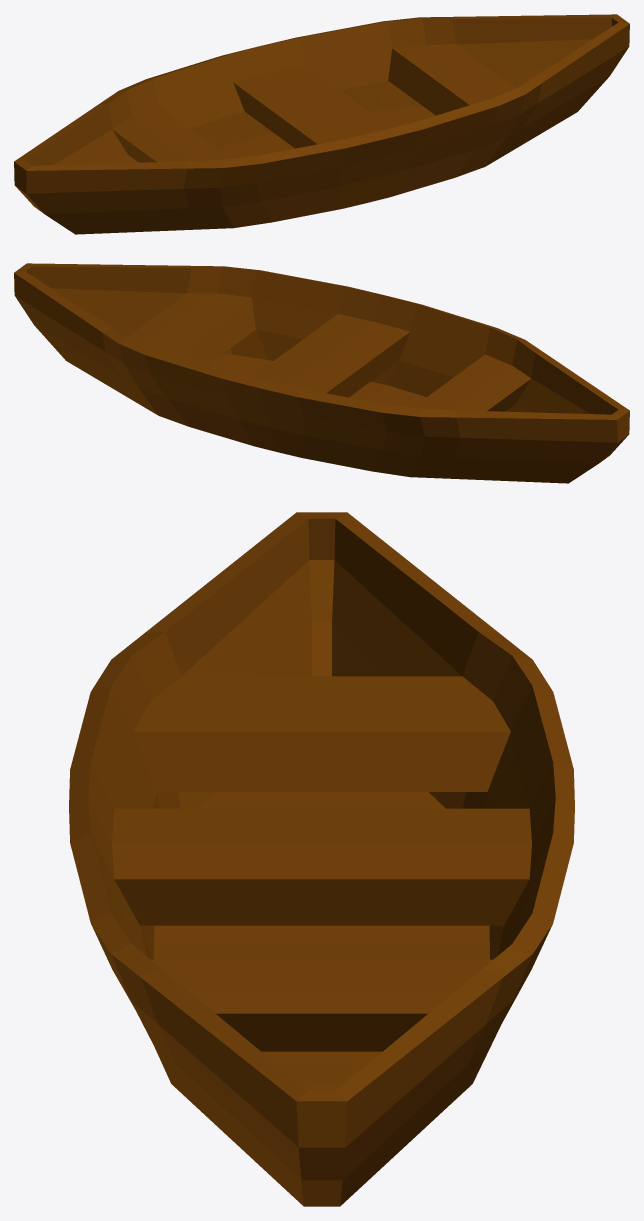
The model's file is boat.glb.
3 views of the same model, one above another, from view 1: azimuth 30°, elevation 25°; view 2: azimuth 150°, elevation 25°; view 3: azimuth 270°, elevation 25° (orthographic). The views are drawn at different scales.
Parts seen in each view (by area): view 1: boat; view 2: boat; view 3: boat.
Boxes of the visible parts, x1,y1,x2,y2 form: boat: [14, 14, 629, 234]; boat: [14, 263, 629, 483]; boat: [69, 512, 574, 1206].
Bounding box in the file's own units: 7.25 × 0.9386 × 2.63.
